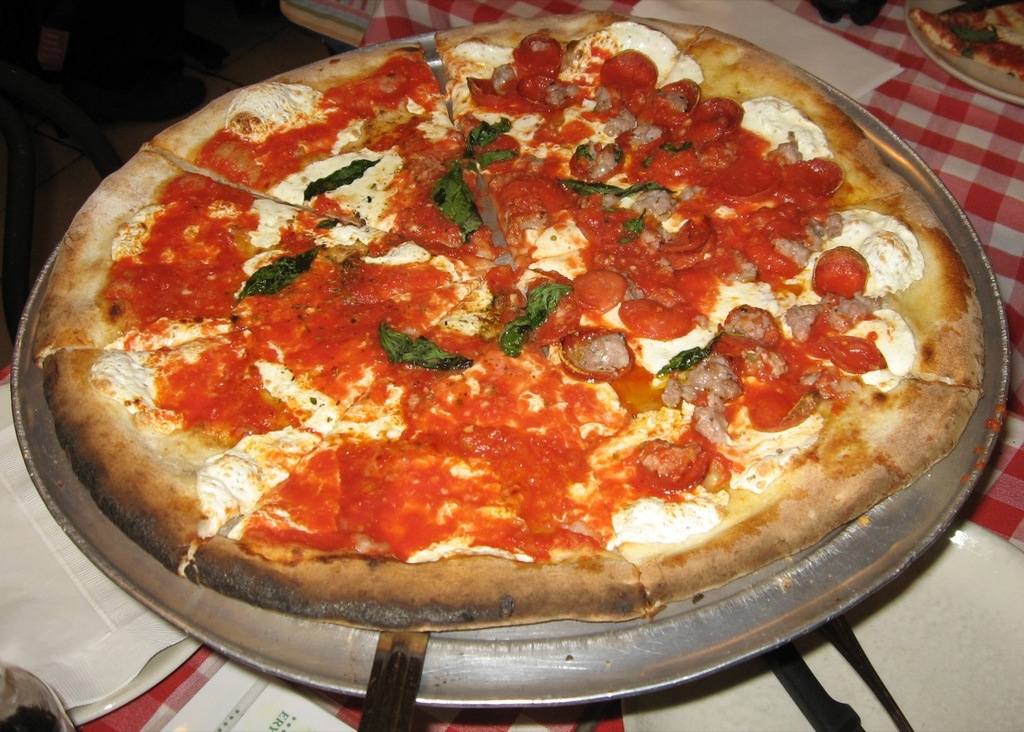Pizza: (12, 18, 985, 676)
